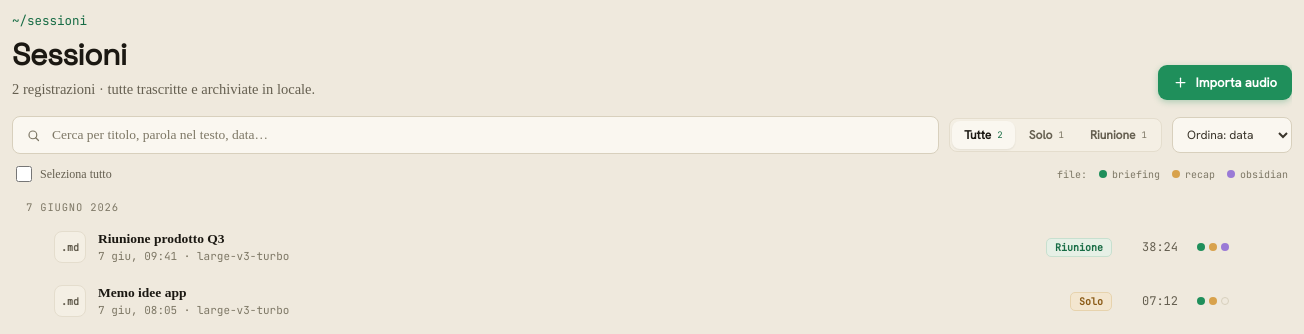
Test case: ScreenSessions › filtro Tutte mostra tutte le sessioni dopo filtraggio
Expected: the text "Riunione prodotto Q3" is shown, [98,231,224,247]
Click the button "Solo 1". click: (1046, 135)
box: [1017,121,1076,149]
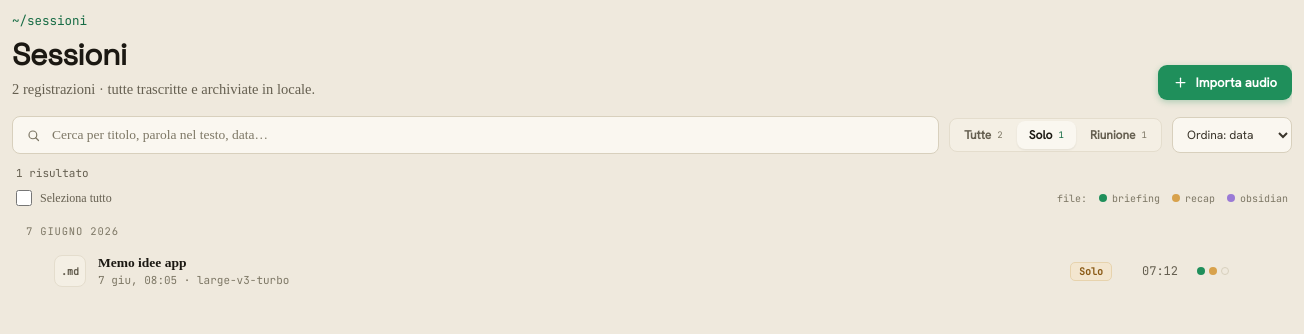
Click the button "Tutte 2". click: (983, 135)
box: [952,121,1015,149]
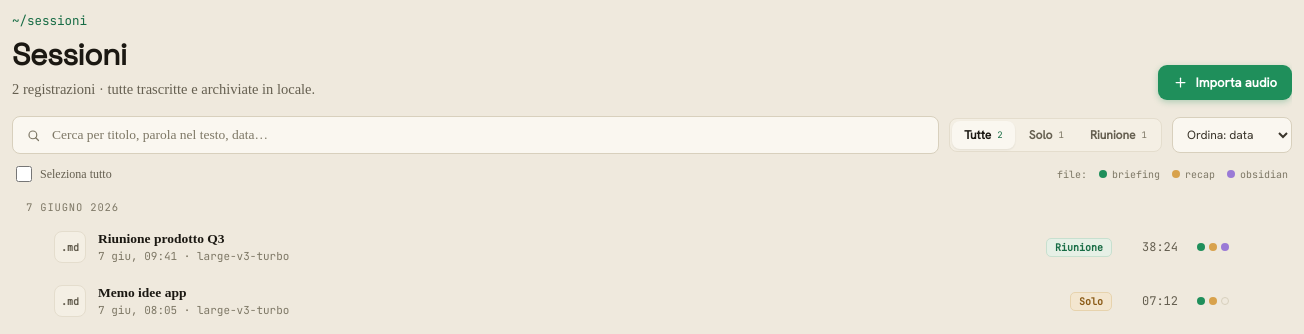
Expected: the text "Memo idee app" is shown, [98,285,186,301]
Expected: the text "Riunione prodotto Q3" is shown, [98,231,224,247]
